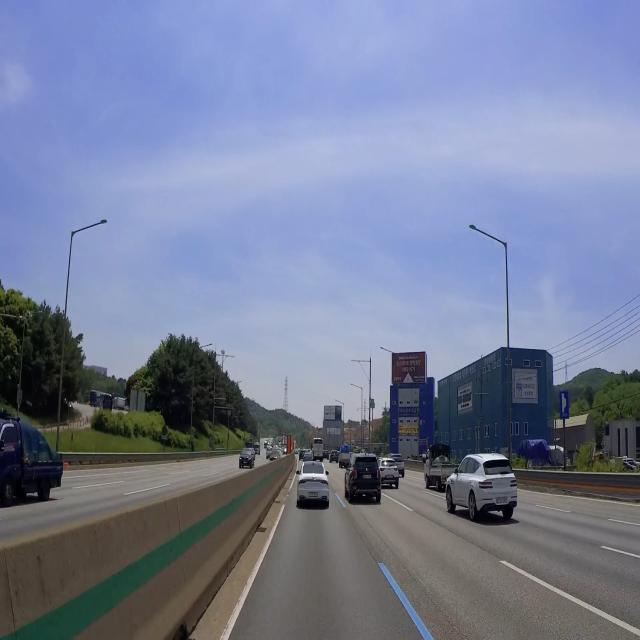car: (494, 494, 512, 508), (305, 488, 322, 500), (361, 472, 373, 484)
